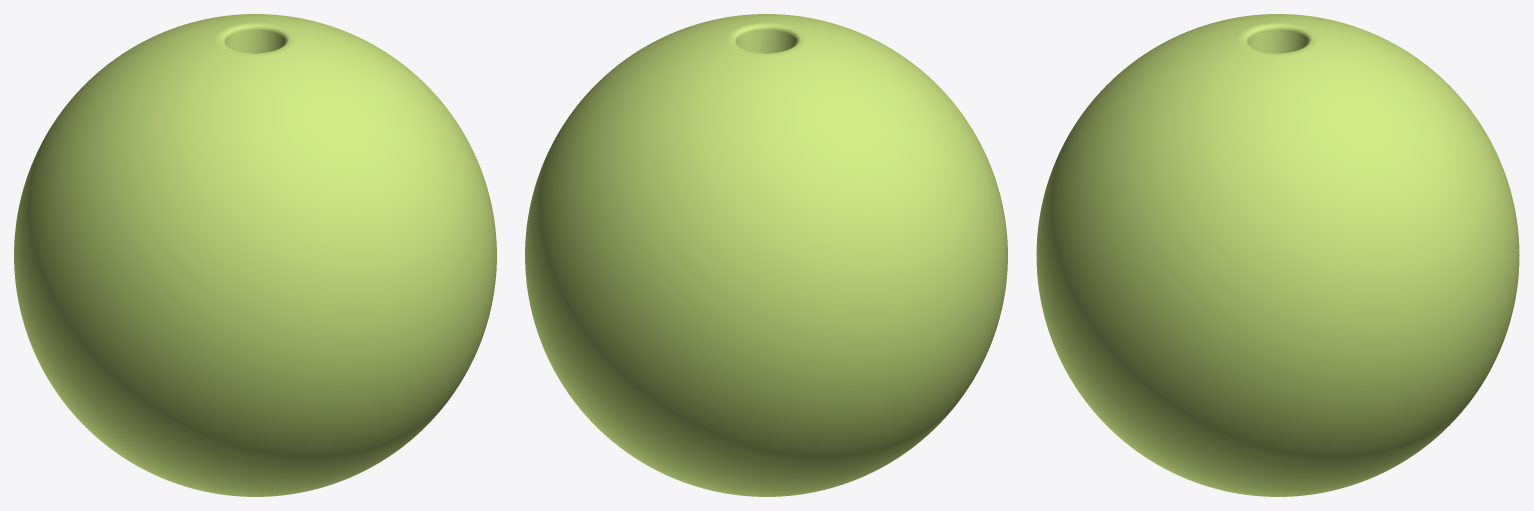
The model's file is peridot-clear-8mm.glb.
The picture shows the model from 3 angles, left to right: view 1: azimuth 30°, elevation 25°; view 2: azimuth 150°, elevation 25°; view 3: azimuth 270°, elevation 25°; orthographic projection.
Visible parts, largest first — view 1: 冰透橄榄石; view 2: 冰透橄榄石; view 3: 冰透橄榄石.
Part boxes in pixels (<box>): 冰透橄榄石: <box>14,14,496,496</box>; 冰透橄榄石: <box>525,14,1007,496</box>; 冰透橄榄石: <box>1036,14,1519,496</box>.
Bounding box in the file's own units: 0.008 × 0.00792 × 0.008.
